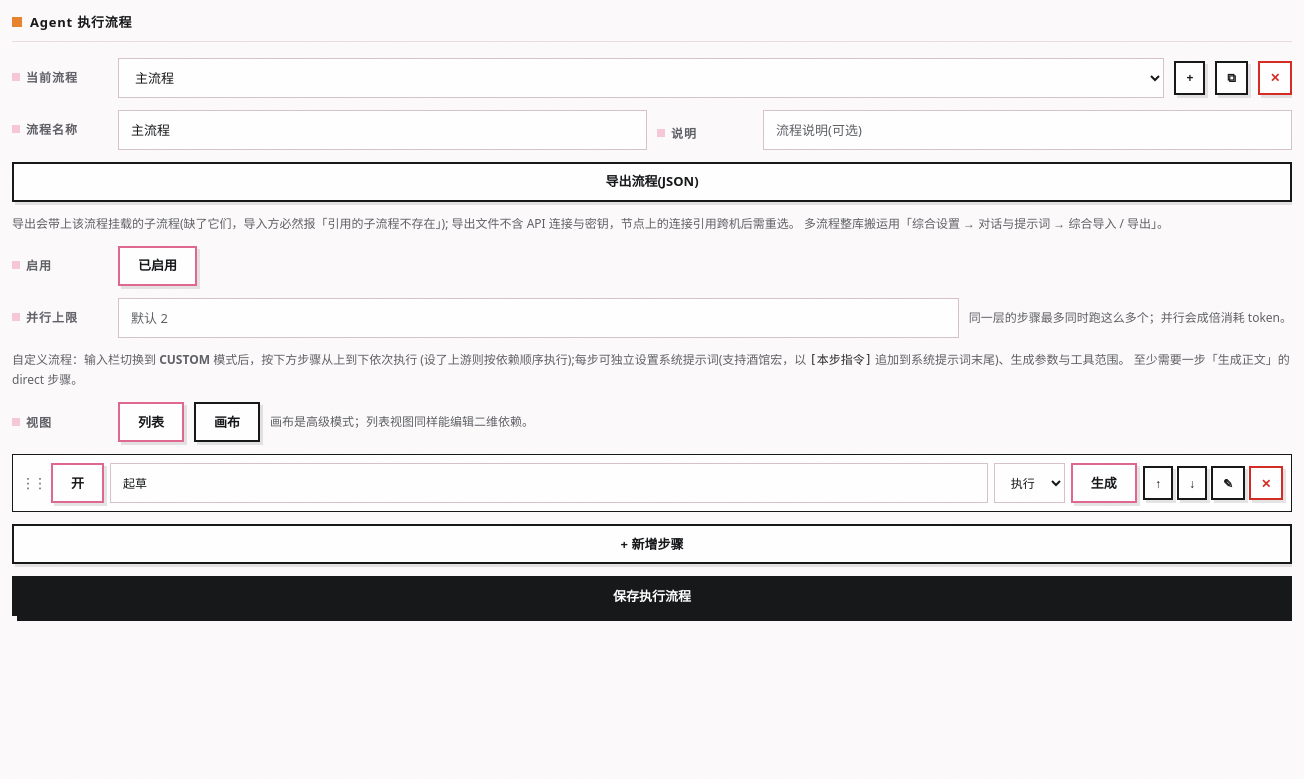
Scenario: AgentFlowSection 静态子图(二维批次 6b) › 列表行摘要显示挂载关系(线性流程也给提示)
Expected: the text "子流程:" is not shown
Click the button titled "编辑详情": click(1228, 483) [1211, 466, 1245, 500]
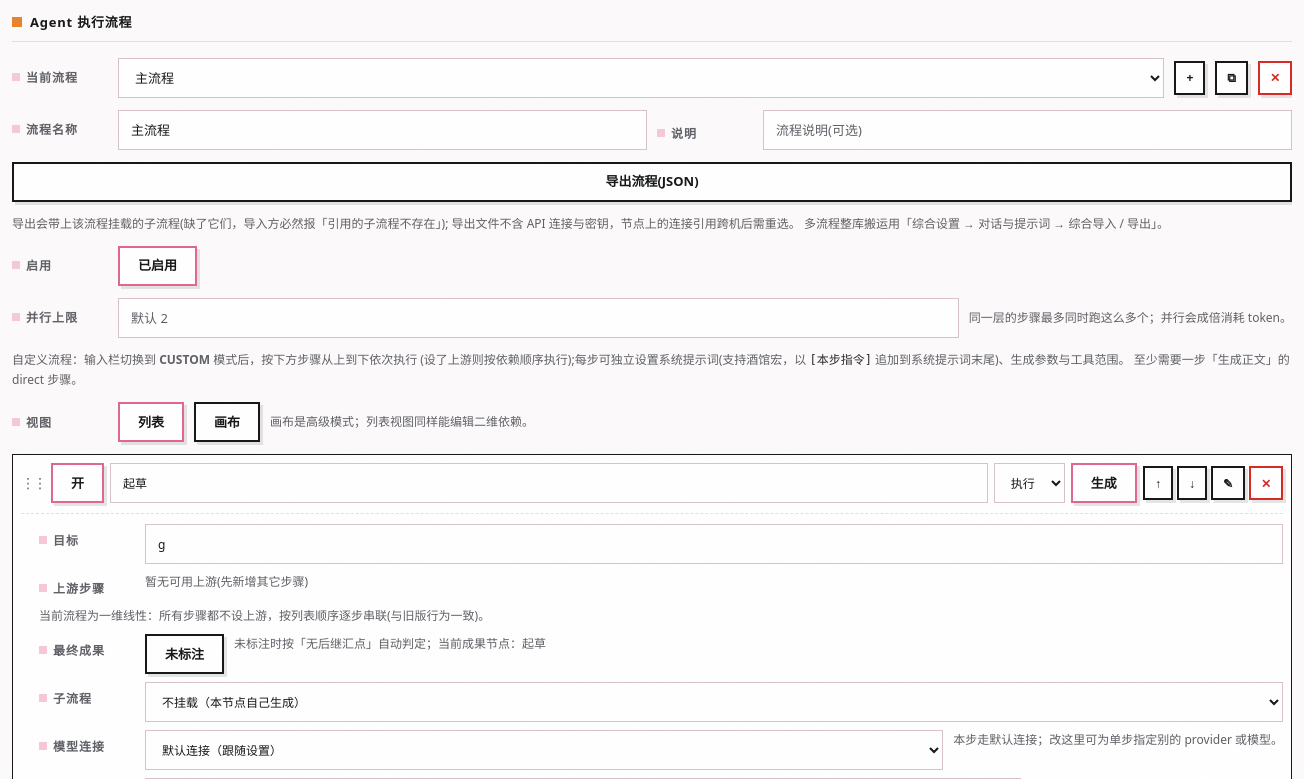
Select "摘要流程" in the dropdown named "挂载后本节点把该流程当子图执行,成果即本节点产出;本节点自身的目标/档位/工具/提示词都不参与执行(配置保留)": (714, 702) [145, 682, 1283, 722]
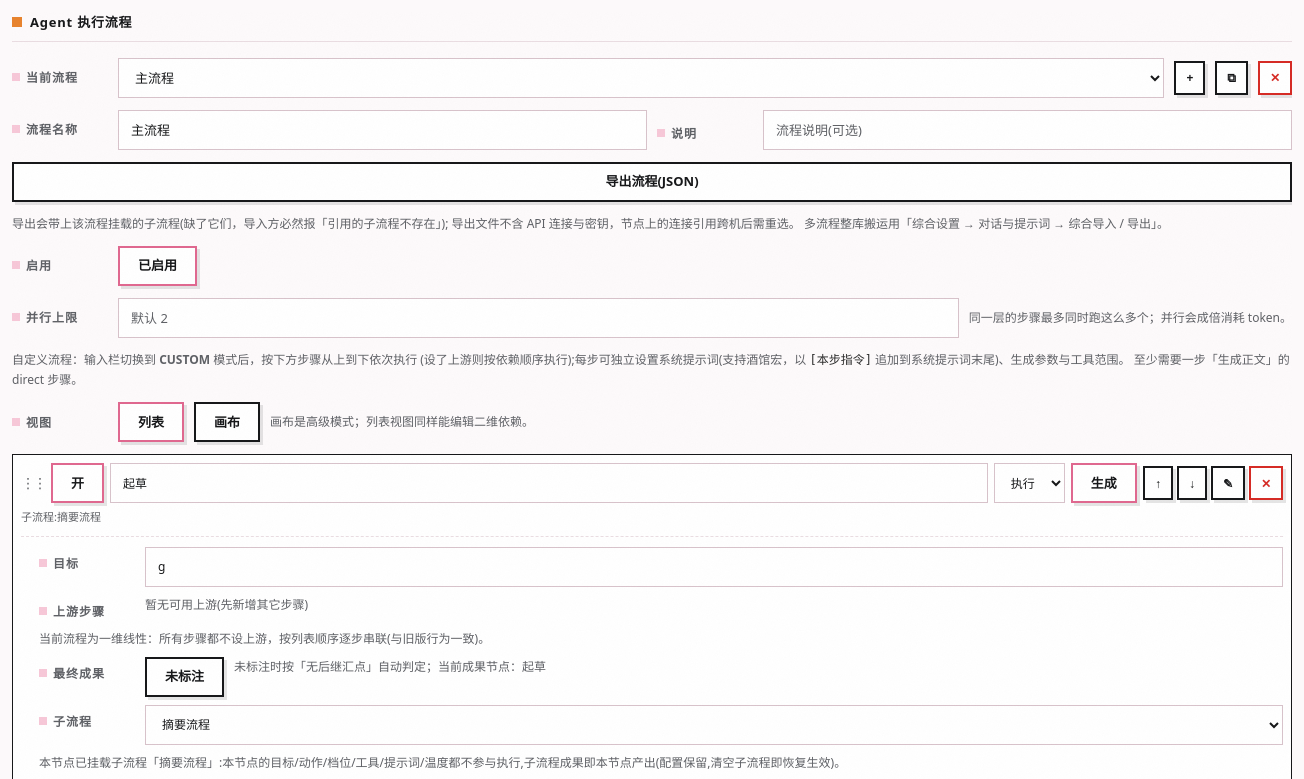
Expected: the element with class "flow-row" shows "子流程:摘要流程", [21, 509, 101, 524]
